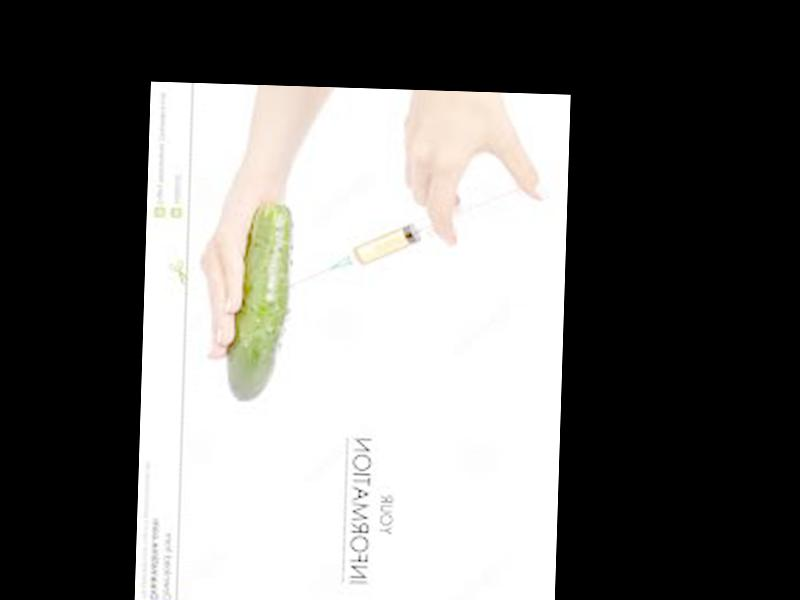Cucumber: (226, 201, 292, 402)
